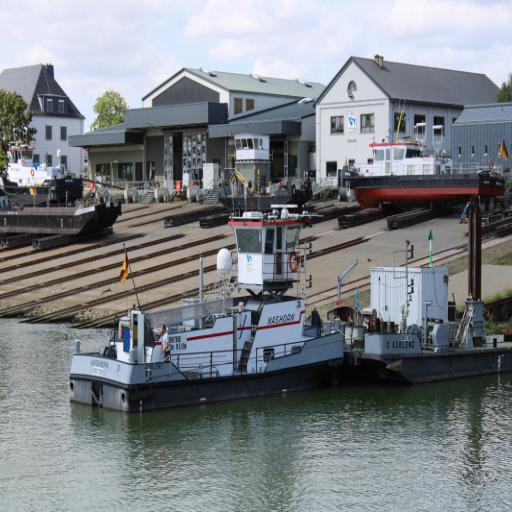tugboat: (68, 201, 354, 425)
